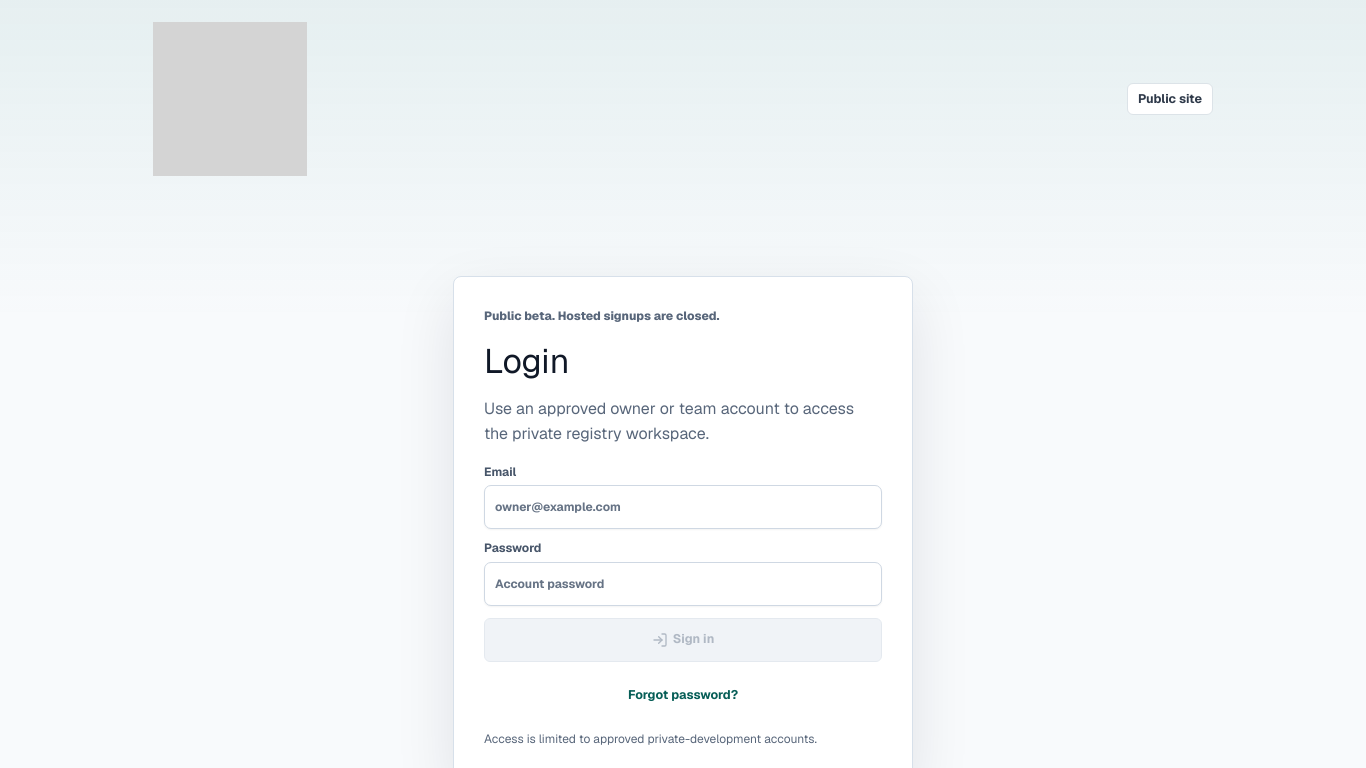
Test case: login stores a verified session and logout clears it
Type "reader@example.com" into the field labelled "Email".
click(683, 507); type("reader@example.com")  # box [484, 485, 882, 529]
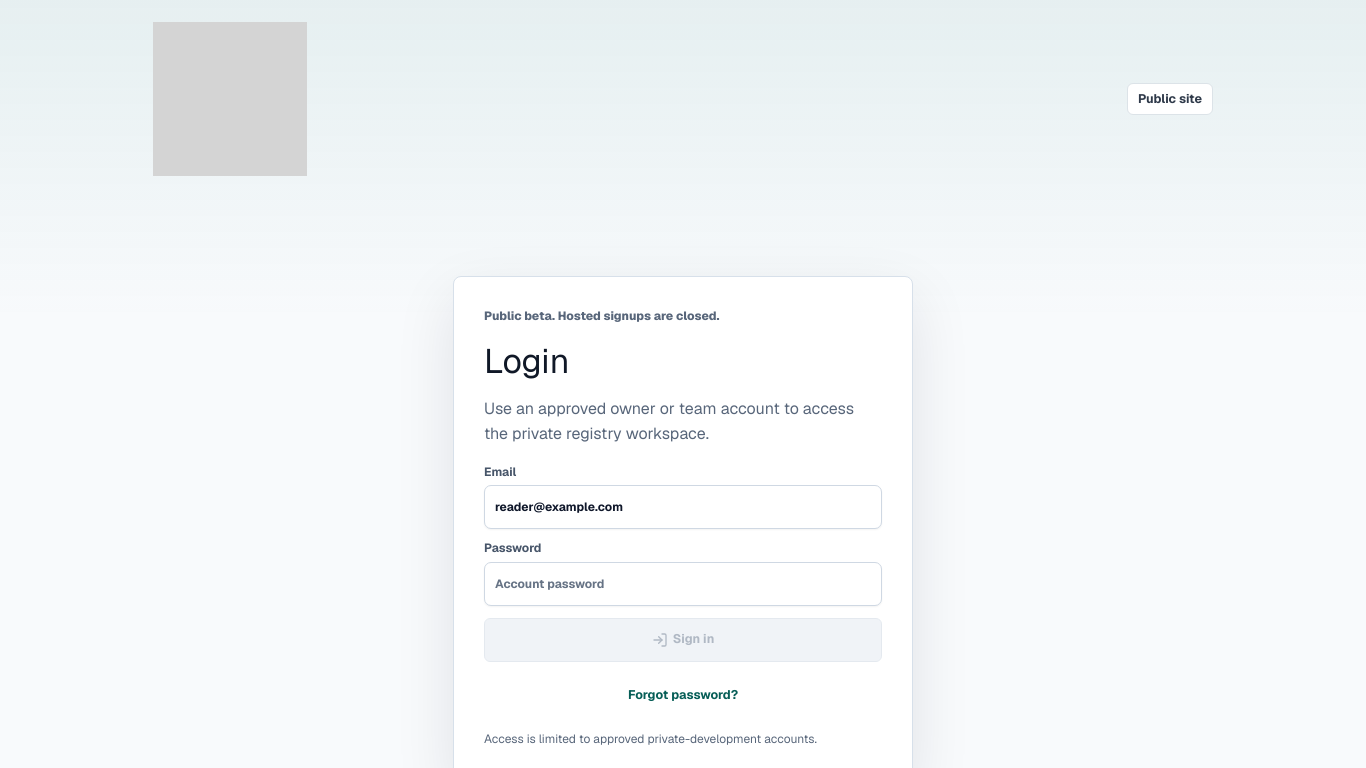
Type "correct horse battery staple" into the password field labelled "Password".
click(683, 584); type("correct horse battery staple")  # box [484, 562, 882, 606]
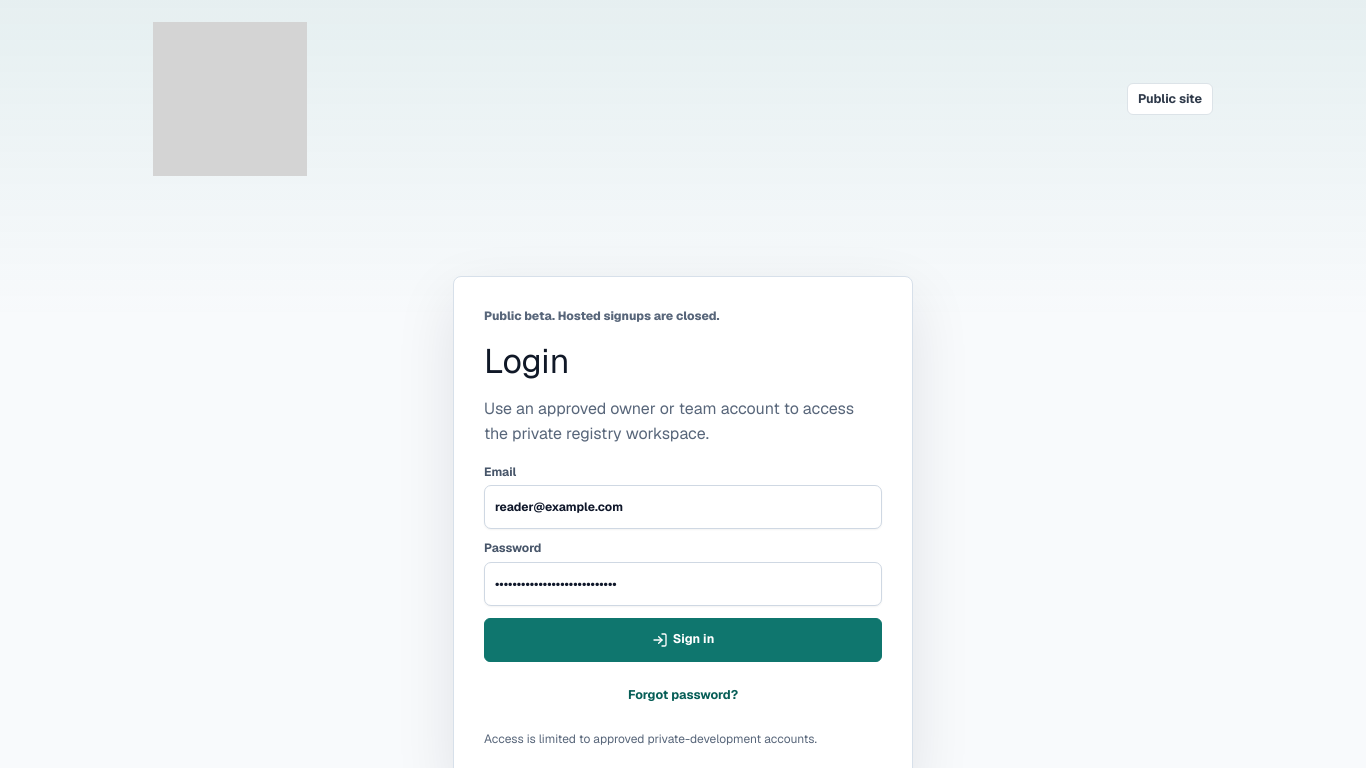
Click the button "Sign in".
click(683, 640)  # box [484, 618, 882, 662]
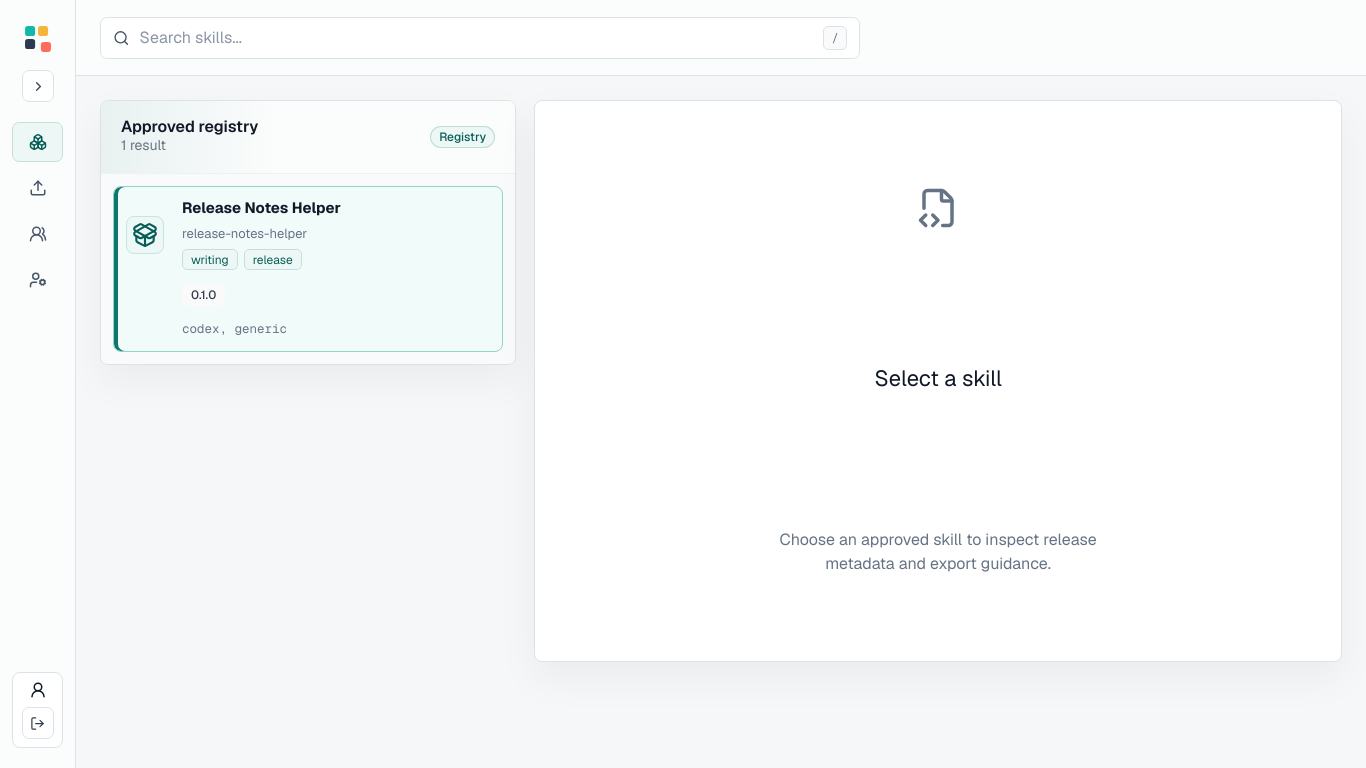
expect the text "Release Notes Helper" is shown: met, box [182, 198, 341, 217]
Click the button named "Sign out".
click(38, 723)  # box [22, 707, 54, 739]
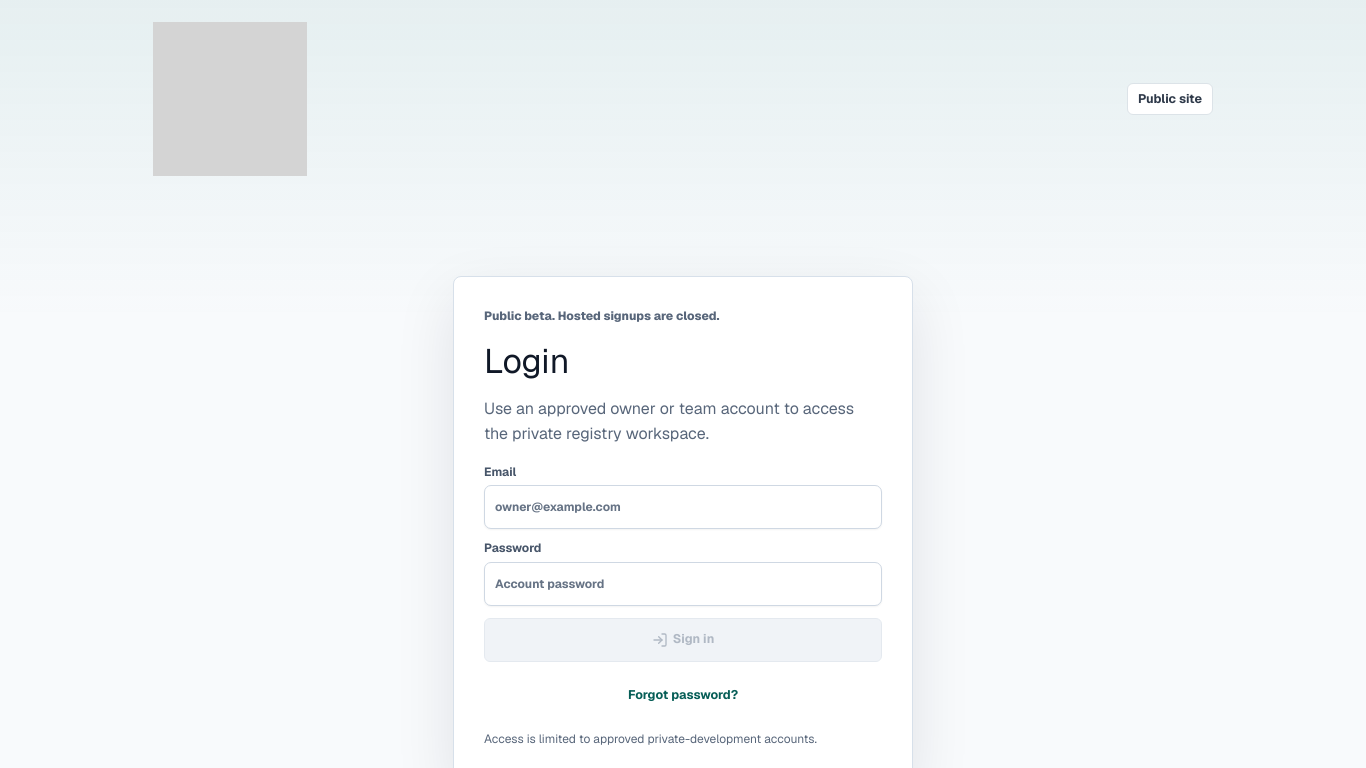
expect the button "Sign in" is shown: met, box [484, 618, 882, 662]
